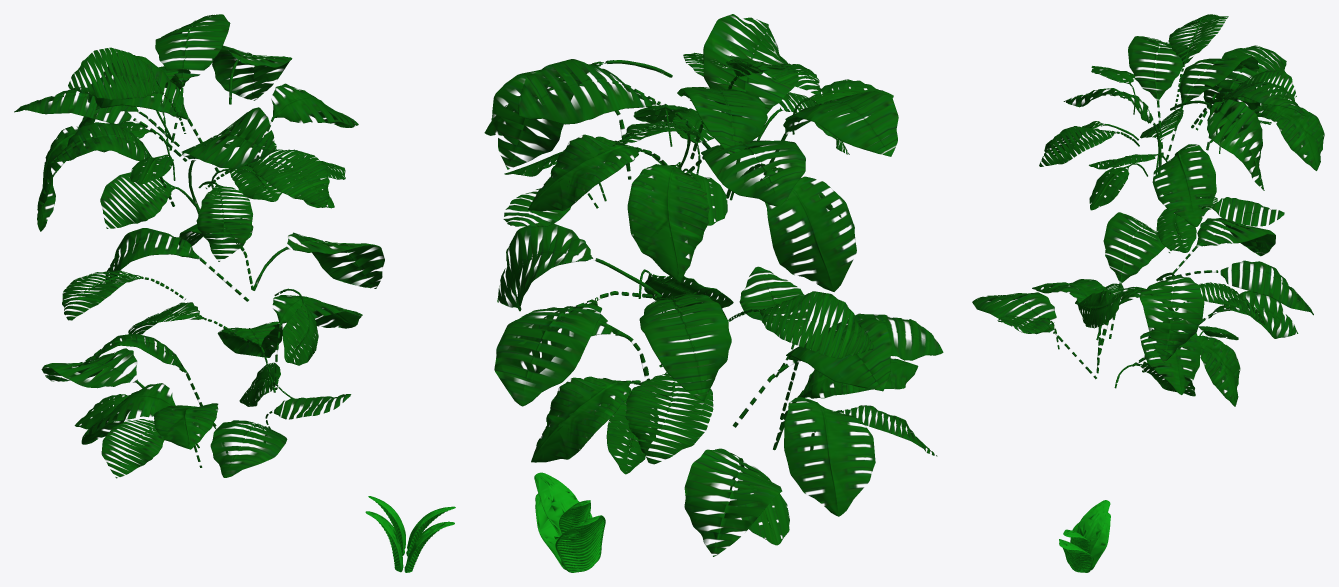
The model's file is worldtreetleaves.glb.
3 views of the same model, side by side, from view 1: azimuth 30°, elevation 25°; view 2: azimuth 150°, elevation 25°; view 3: azimuth 270°, elevation 25° (orthographic). The views are drawn at different scales.
Visible parts, largest first — view 1: leaf_010_mesh.011; view 2: leaf_010_mesh.011; view 3: leaf_010_mesh.011.
Part boxes in pixels (left/top/right/bottom): leaf_010_mesh.011: left=14, top=14, right=455, bottom=572; leaf_010_mesh.011: left=484, top=14, right=943, bottom=572; leaf_010_mesh.011: left=972, top=14, right=1324, bottom=572.
Bounding box in the file's own units: 1.06 × 1.52 × 1.06.
3 materials, 3 textured.
